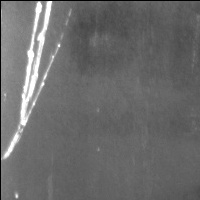scratches: (2, 1, 61, 161)
